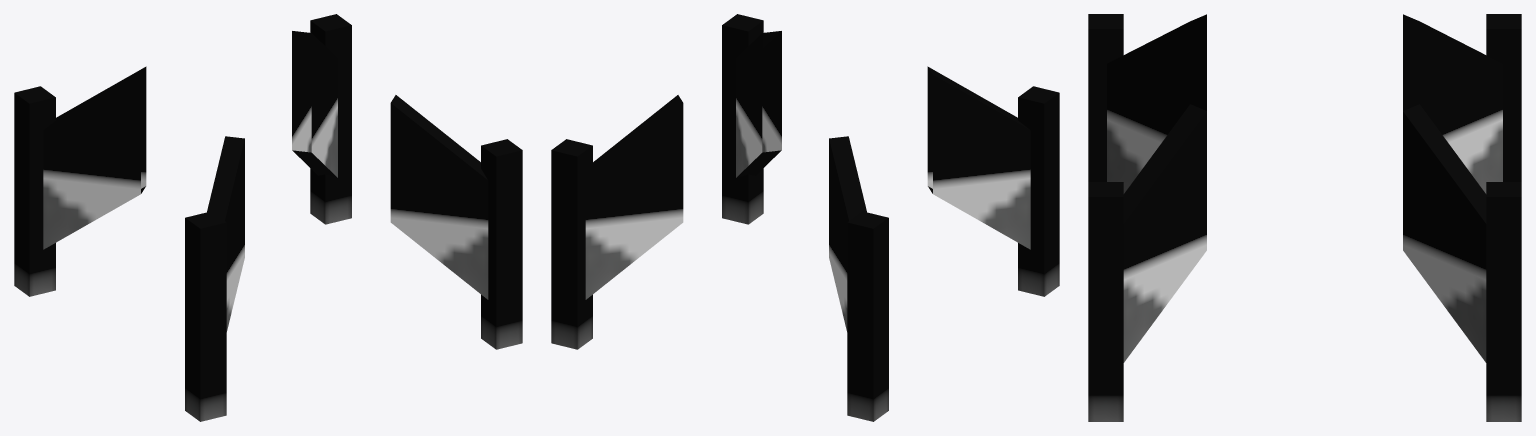
Rendered from tier_1_rocket_fins.obj.
The picture shows the model from 3 angles, left to right: view 1: azimuth 30°, elevation 25°; view 2: azimuth 150°, elevation 25°; view 3: azimuth 270°, elevation 25°; orthographic projection. The views are drawn at different scales.
Visible parts, largest first — view 1: RocketFins_Cube.014; view 2: RocketFins_Cube.014; view 3: RocketFins_Cube.014.
Part boxes in pixels (left/top/right/bottom): RocketFins_Cube.014: left=14, top=14, right=522, bottom=421; RocketFins_Cube.014: left=551, top=14, right=1059, bottom=421; RocketFins_Cube.014: left=1088, top=14, right=1521, bottom=421.
Size of the model in its own units: 2.29 by 1.56 by 2.29.
